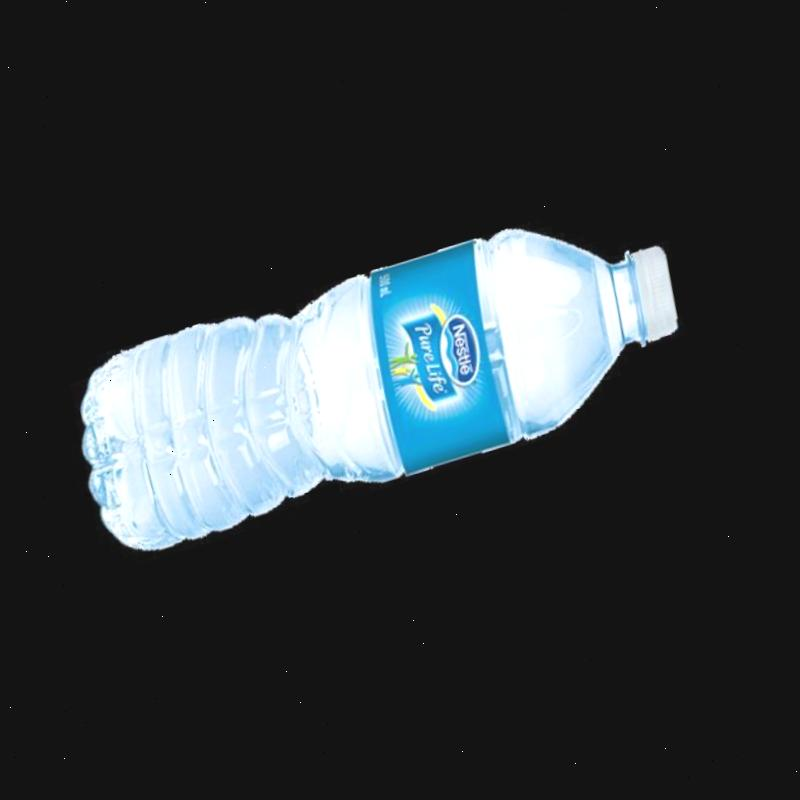botella: (59, 190, 705, 574)
